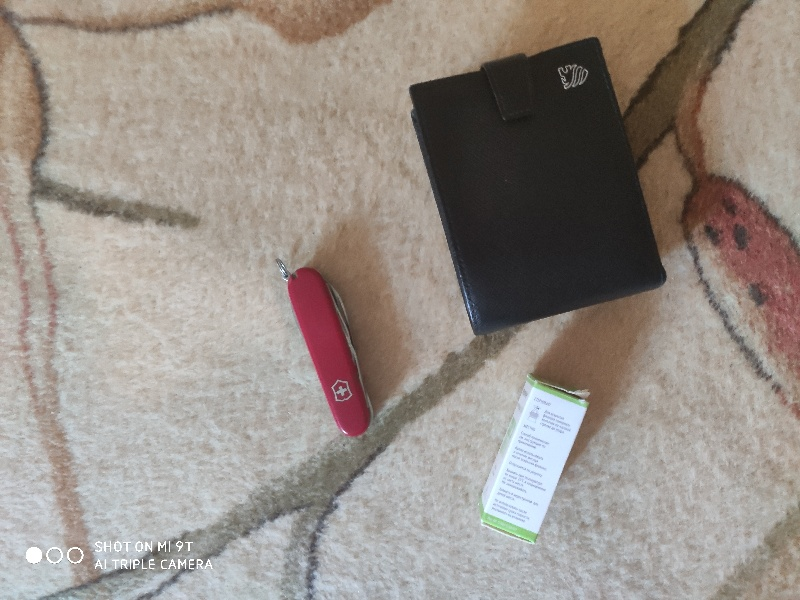ifrin: (468, 368, 595, 558)
knife: (281, 258, 378, 461)
wallet: (401, 31, 668, 338)
